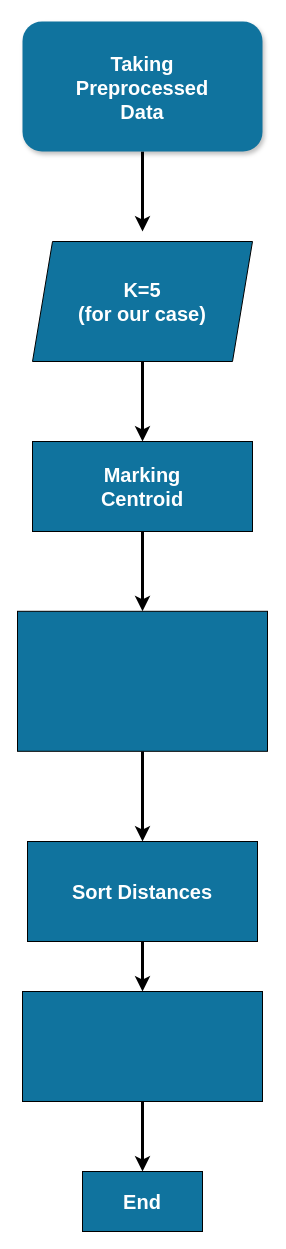
The diagram is 286 pixels wide and 1249 high, and some of its shapes have lost their labels. Each missing label, with the centre of its shape:
"Apply simple Majority to classify patient" belongs at point 142,1046.
"Distance calculation from K nearest points" belongs at point 142,680.
